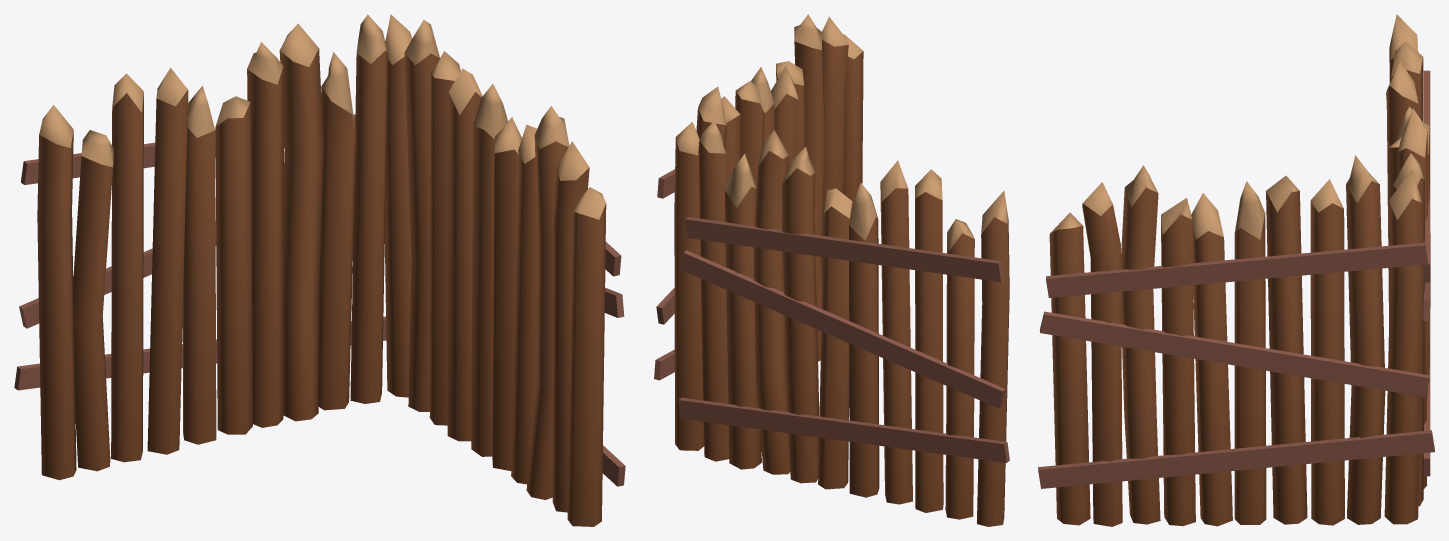
File: Fence_WoodC_I.fbx
3 views of the same model, side by side, from view 1: azimuth 30°, elevation 25°; view 2: azimuth 150°, elevation 25°; view 3: azimuth 270°, elevation 25° (orthographic). The views are drawn at different scales.
Parts seen in each view (by area): view 1: Fence_WoodC_I; view 2: Fence_WoodC_I; view 3: Fence_WoodC_I.
Part boxes in pixels (box(x1,y1,x2,y2)): Fence_WoodC_I: box(14, 14, 625, 526); Fence_WoodC_I: box(654, 14, 1009, 526); Fence_WoodC_I: box(1038, 14, 1434, 526).
Bounding box in the file's own units: 598 × 561 × 560.
